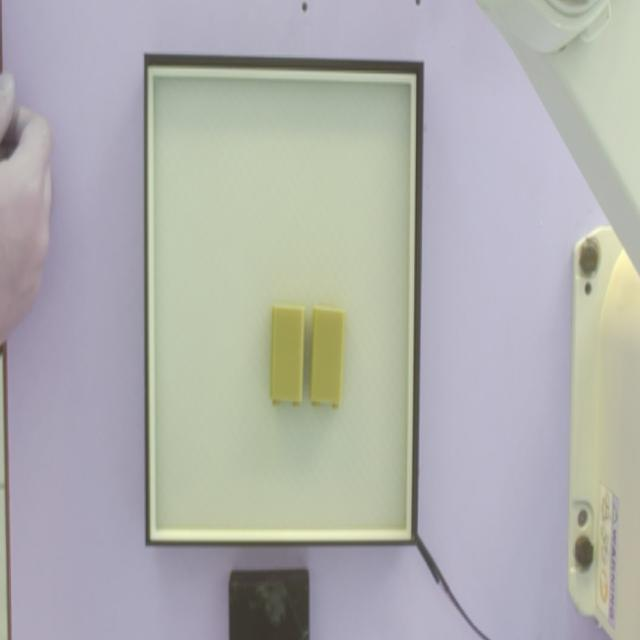bateria: (269, 304, 305, 409), (309, 306, 345, 409)
mesa: (145, 54, 424, 547)
